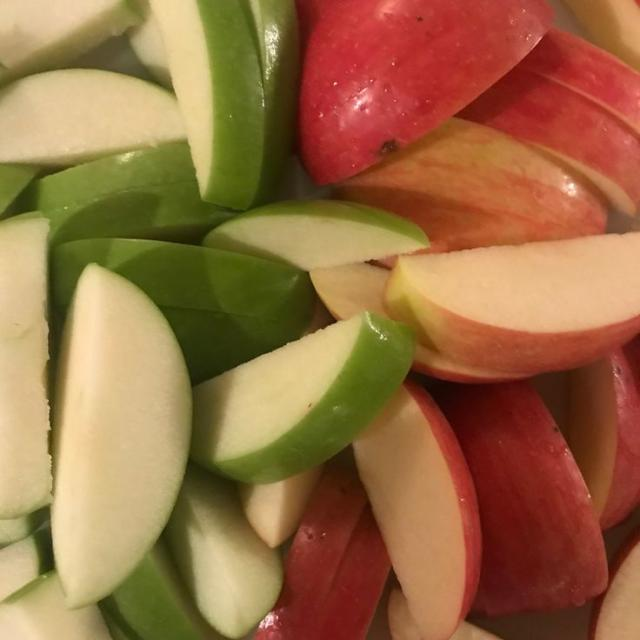apple: (52, 265, 192, 607), (299, 0, 552, 184), (436, 382, 607, 615), (52, 239, 316, 383), (191, 313, 414, 483), (334, 119, 606, 252), (385, 234, 639, 375), (354, 382, 480, 639), (460, 67, 639, 213), (151, 0, 265, 209), (18, 142, 232, 244), (167, 467, 282, 638), (256, 464, 366, 639), (0, 69, 185, 166), (203, 200, 428, 271), (0, 214, 52, 519), (566, 340, 639, 529), (521, 28, 639, 133), (101, 540, 219, 639), (0, 0, 139, 84), (304, 507, 391, 639), (248, 0, 300, 206), (0, 572, 111, 639), (240, 466, 322, 547), (589, 531, 639, 639), (564, 0, 639, 69), (413, 343, 527, 383), (127, 0, 171, 87), (0, 530, 53, 601), (0, 164, 39, 218), (295, 0, 333, 53), (387, 588, 426, 639), (0, 508, 48, 546), (101, 607, 139, 639)
